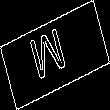M_S: (33, 24, 77, 86)
